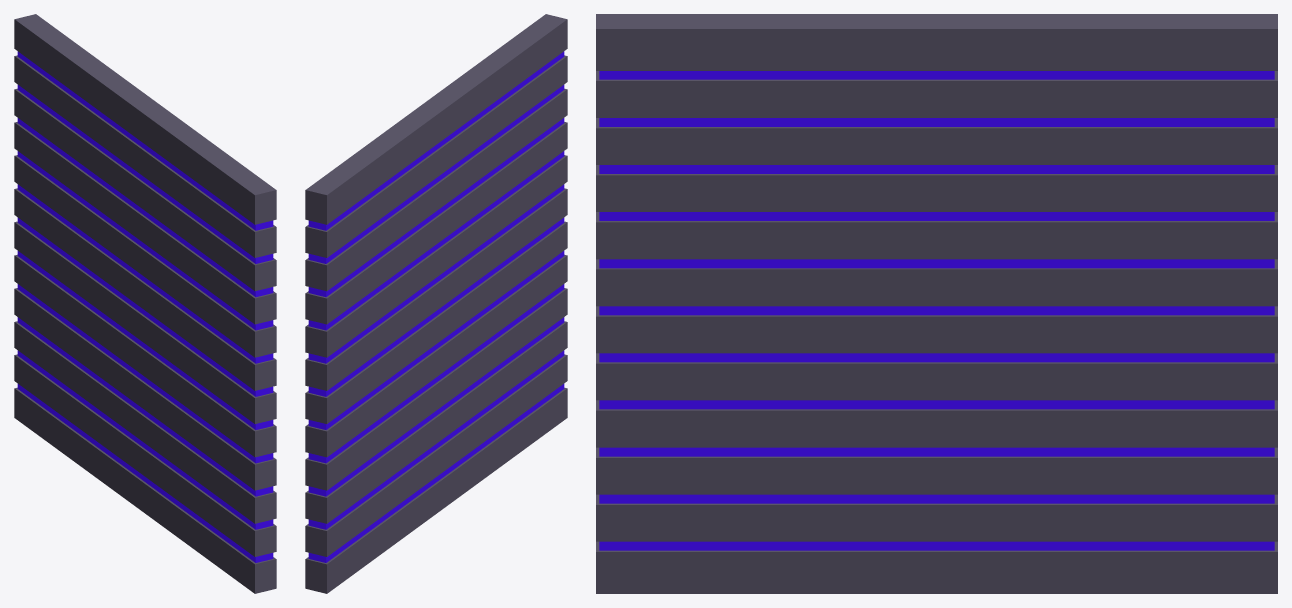
The model's file is DoorBottomFloor.glb.
3 renders of one model, left to right at view 1: azimuth 30°, elevation 25°; view 2: azimuth 150°, elevation 25°; view 3: azimuth 270°, elevation 25°, orthographic. The views are drawn at different scales.
Parts seen in each view (by area): view 1: DoorBottomElevator; view 2: DoorBottomElevator; view 3: DoorBottomElevator.
Part boxes in pixels (left/top/right/bottom): DoorBottomElevator: left=14, top=14, right=276, bottom=593; DoorBottomElevator: left=305, top=14, right=567, bottom=593; DoorBottomElevator: left=596, top=14, right=1277, bottom=593.
Size of what is drawn, in the model's own units: 0.147 by 2.6 by 2.85.
Materials: 1 (1 with a texture image).
